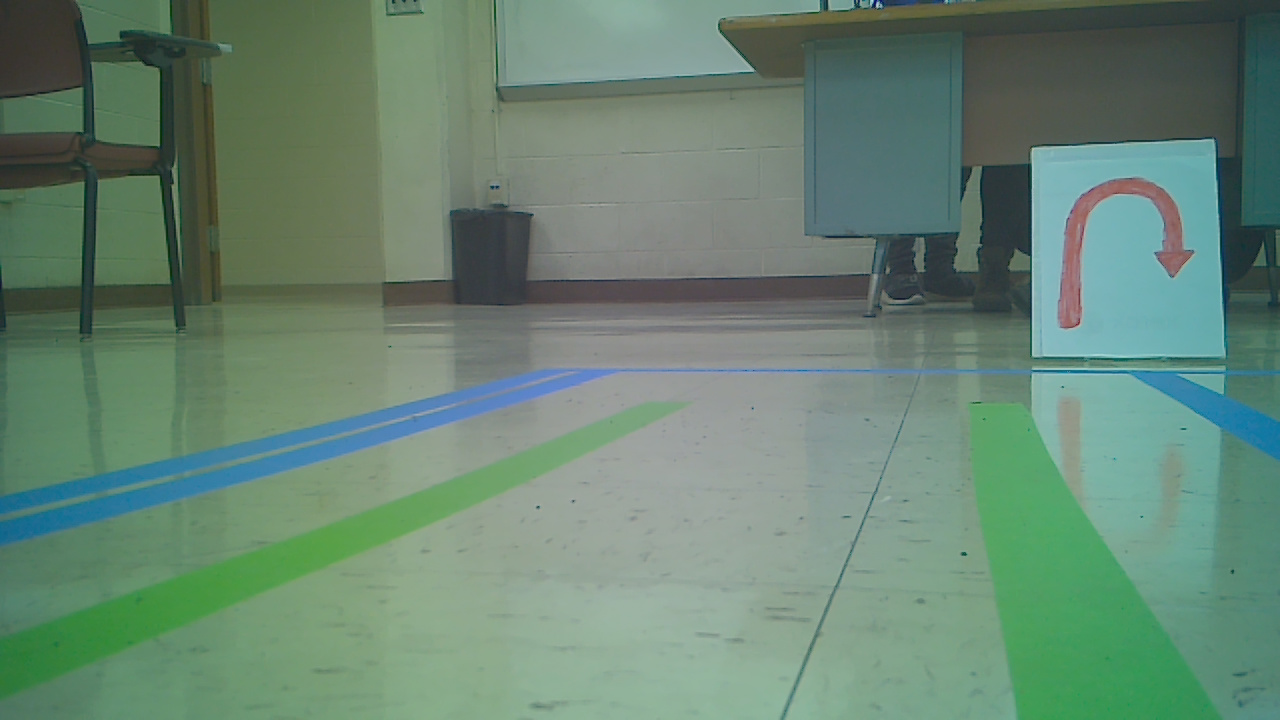greenline: (6, 395, 672, 686), (967, 395, 1209, 716)
uturn: (1051, 170, 1196, 336)
